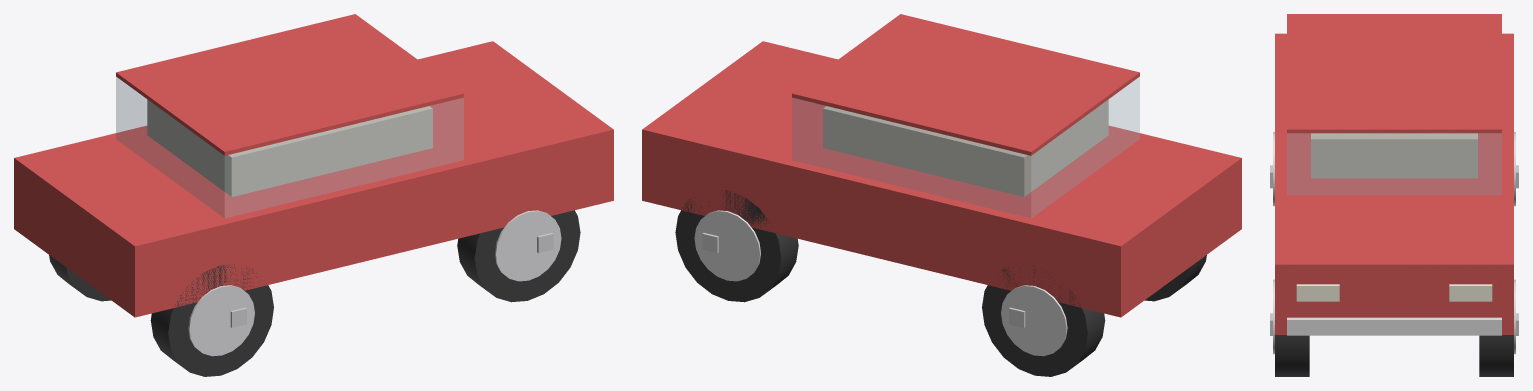
Rendered from de_carModel_tern.glb.
3 renders of one model, left to right at view 1: azimuth 30°, elevation 25°; view 2: azimuth 150°, elevation 25°; view 3: azimuth 270°, elevation 25°, orthographic.
Visible parts, largest first — view 1: PlaceholderCar; view 2: PlaceholderCar; view 3: PlaceholderCar.
Boxes of the visible parts, x1,y1,x2,y2 form: PlaceholderCar: (14, 14, 613, 376); PlaceholderCar: (642, 14, 1241, 376); PlaceholderCar: (1270, 14, 1518, 376).
Bounding box in the file's own units: 3.84 × 1.64 × 1.73.
